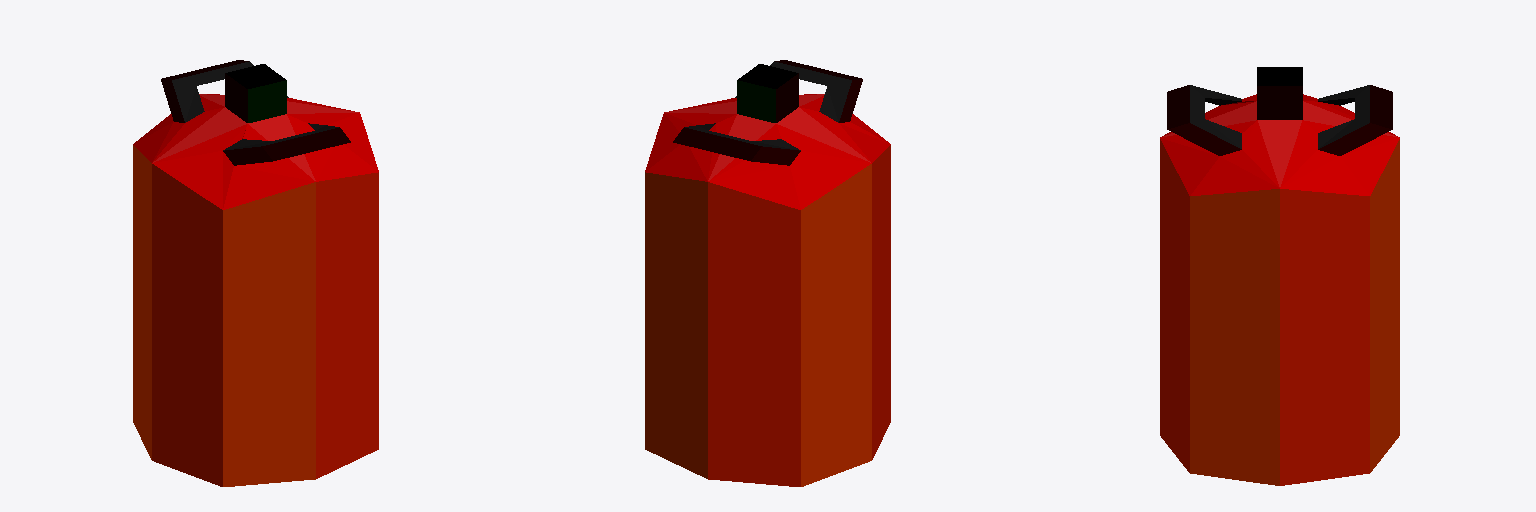
File: butano_house_full.obj
3 renders of one model, left to right at view 1: azimuth 30°, elevation 25°; view 2: azimuth 150°, elevation 25°; view 3: azimuth 270°, elevation 25°, orthographic.
Parts seen in each view (by area): view 1: Cube.003; view 2: Cube.003; view 3: Cube.003.
Boxes of the visible parts, box(x1,y1,x2,y2) form: Cube.003: box(133, 60, 378, 486); Cube.003: box(645, 60, 890, 486); Cube.003: box(1160, 67, 1399, 485).
Size of the model in its own units: 48 by 79 by 48.